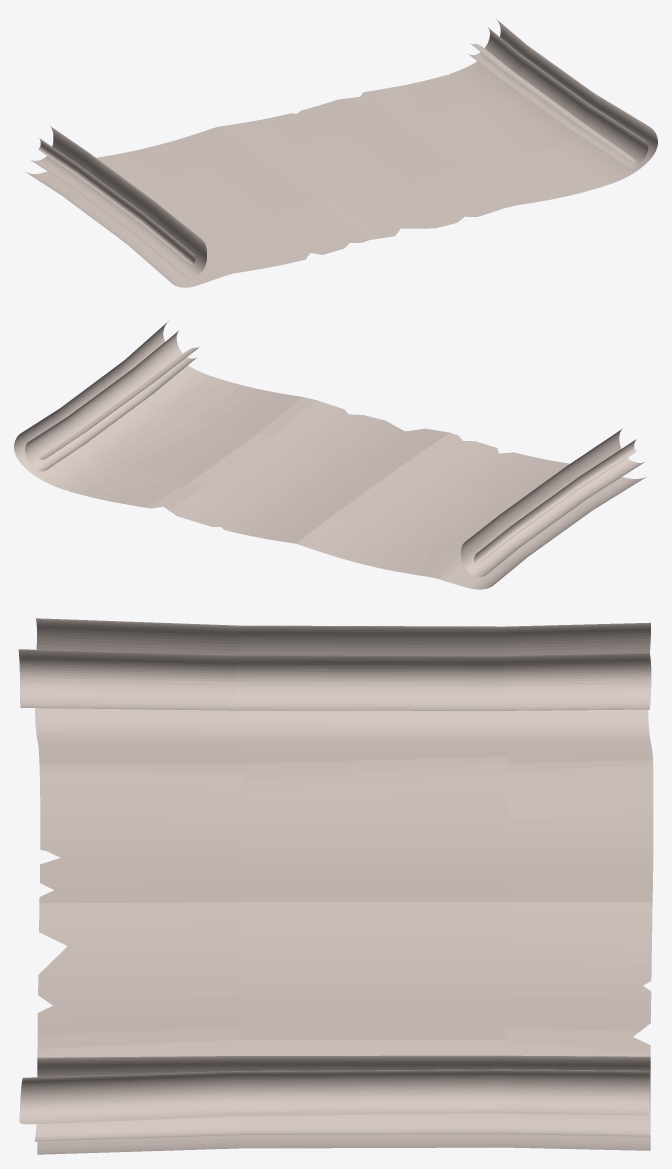
Rendered from letter.glb.
3 renders of one model, top to bottom at view 1: azimuth 30°, elevation 25°; view 2: azimuth 150°, elevation 25°; view 3: azimuth 270°, elevation 25°, orthographic. The views are drawn at different scales.
Visible parts, largest first — view 1: BezierCurve; view 2: BezierCurve; view 3: BezierCurve.
Part boxes in pixels (left/top/right/bottom): BezierCurve: left=25, top=19, right=657, bottom=287; BezierCurve: left=14, top=322, right=645, bottom=589; BezierCurve: left=18, top=618, right=653, bottom=1154.
Bounding box in the file's own units: 0.6051 × 0.0636 × 0.3365.
